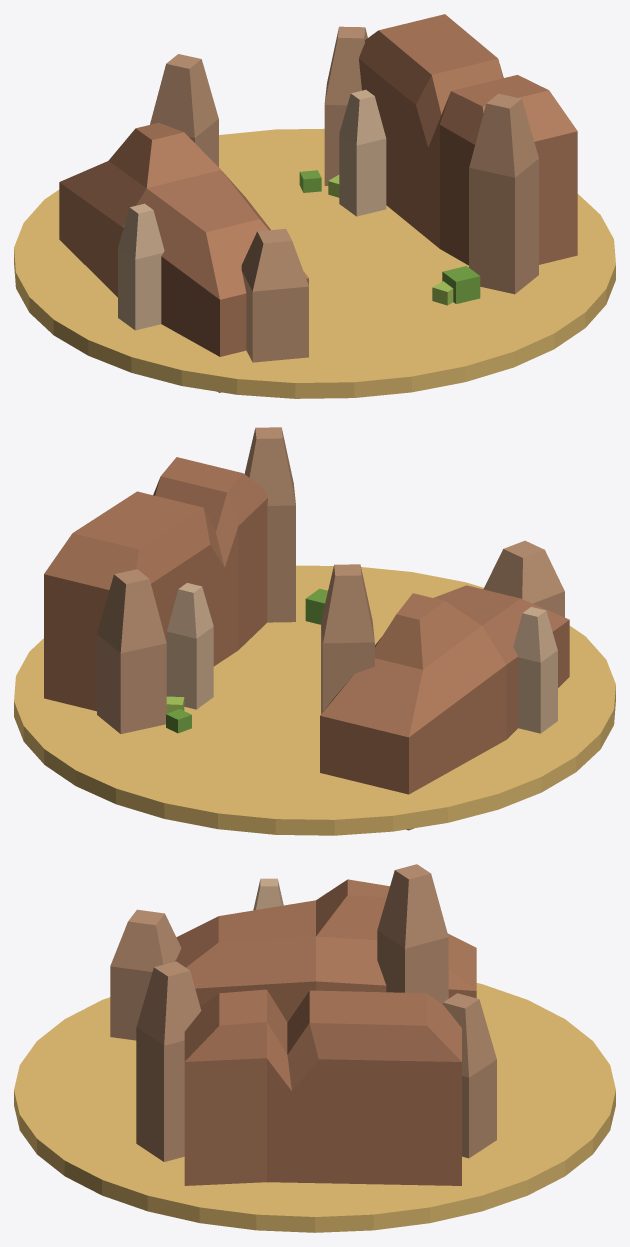
File: MapRed.fbx
3 renders of one model, top to bottom at view 1: azimuth 30°, elevation 25°; view 2: azimuth 150°, elevation 25°; view 3: azimuth 270°, elevation 25°, orthographic.
Parts seen in each view (by area): view 1: BASE, Big, Big2, Cube.100, Cube.104, Cube.094, Cube.103, Cube.102, Cube.093, Cube.110; view 2: BASE, Big, Big2, Cube.093, Cube.100, Cube.102, Cube.094, Cube.103, Cube.104, Cube.110; view 3: BASE, Big, Big2, Cube.100, Cube.102, Cube.104, Cube.093, Cube.103.
Part boxes in pixels (x1,y1,x2,y2): BASE: (14,128,615,398); Big: (359,14,577,265); Big2: (59,122,308,392); Cube.100: (469,93,538,294); Cube.104: (241,228,308,362); Cube.094: (339,89,386,216); Cube.103: (118,203,164,330); Cube.102: (150,54,218,166); Cube.093: (324,26,367,185); Cube.110: (442,266,480,303); BASE: (14,565,615,835); Big: (44,457,267,711); Big2: (320,585,569,830); Cube.093: (97,569,166,733); Cube.100: (244,427,295,622); Cube.102: (321,564,374,713); Cube.094: (166,583,213,709); Cube.103: (513,607,557,733); Cube.104: (483,540,564,617); Cube.110: (305,588,327,624); BASE: (14,983,615,1232); Big: (184,989,461,1185); Big2: (176,879,476,1022); Cube.100: (136,961,201,1161); Cube.102: (377,864,448,1004); Cube.104: (110,909,181,1040); Cube.093: (442,993,496,1158); Cube.103: (253,878,283,910).
Bounding box in the file's own units: 1175 × 1175 × 499.
1 material, 1 textured.
